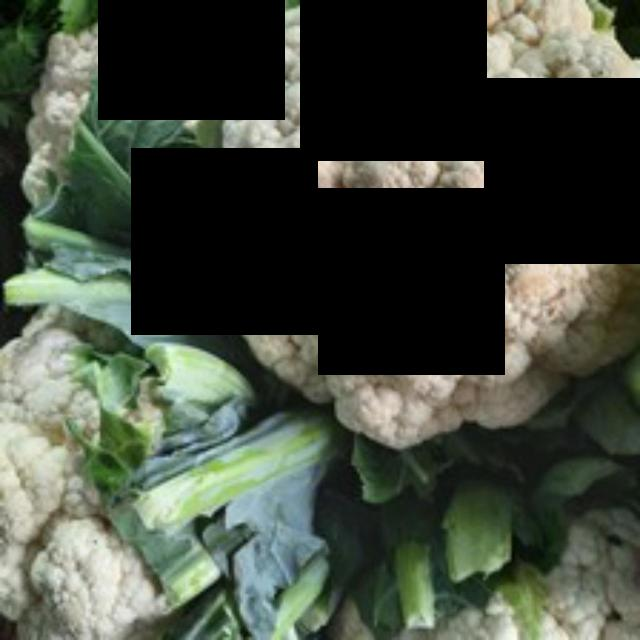cauliflower: (208, 0, 637, 460)
